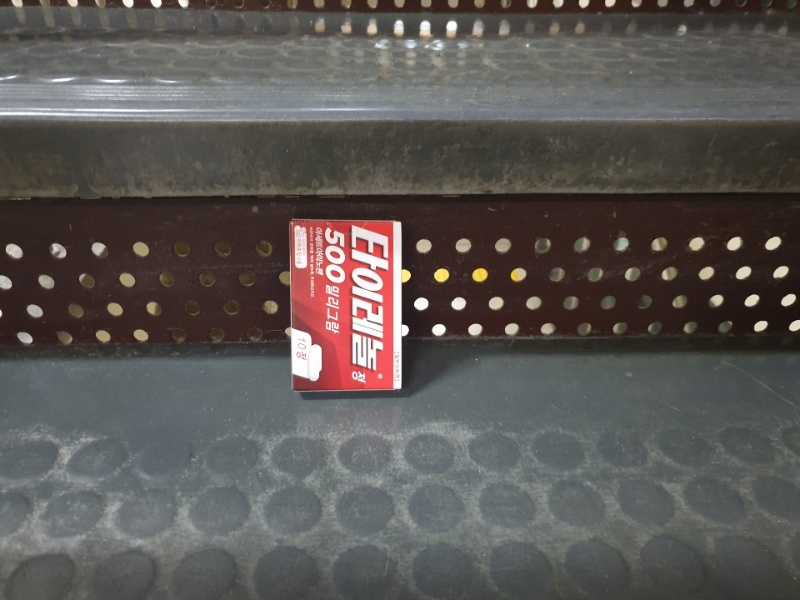tylenol: (289, 216, 403, 393)
